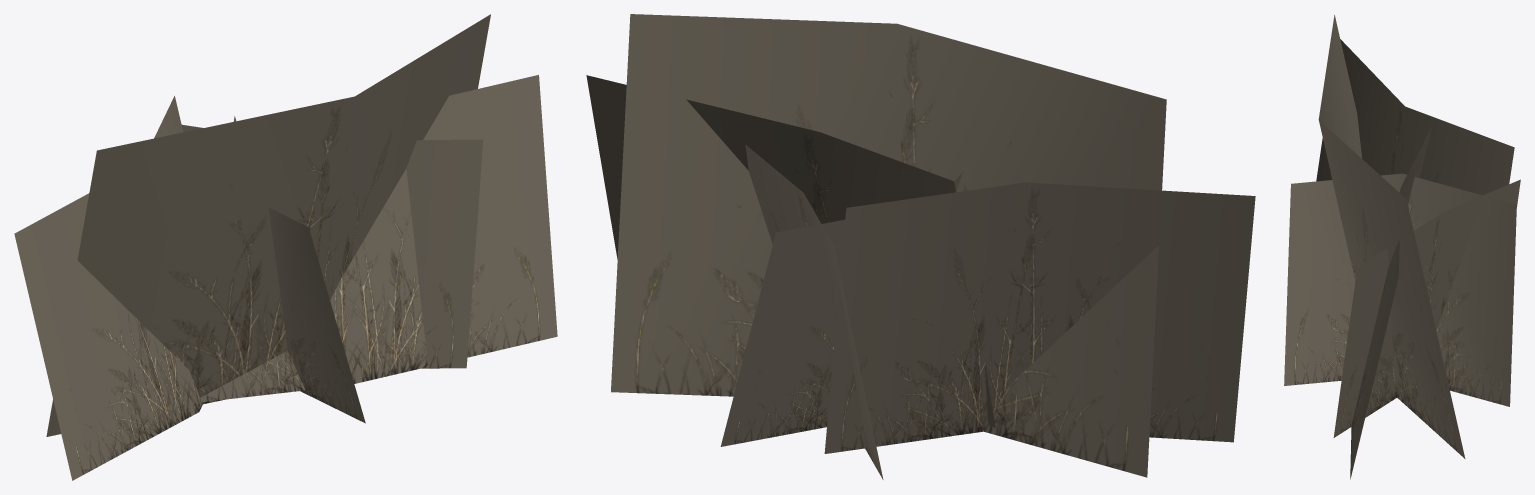
The model's file is weed1.fbx.
3 views of the same model, side by side, from view 1: azimuth 30°, elevation 25°; view 2: azimuth 150°, elevation 25°; view 3: azimuth 270°, elevation 25° (orthographic). The views are drawn at different scales.
Parts seen in each view (by area): view 1: polymsh_extracted; view 2: polymsh_extracted; view 3: polymsh_extracted.
Part boxes in pixels (bbox=[...]): polymsh_extracted: bbox=[14, 14, 557, 480]; polymsh_extracted: bbox=[586, 14, 1255, 479]; polymsh_extracted: bbox=[1284, 15, 1520, 479].
Size of the model in its own units: 2.03 by 1.08 by 0.8547.
